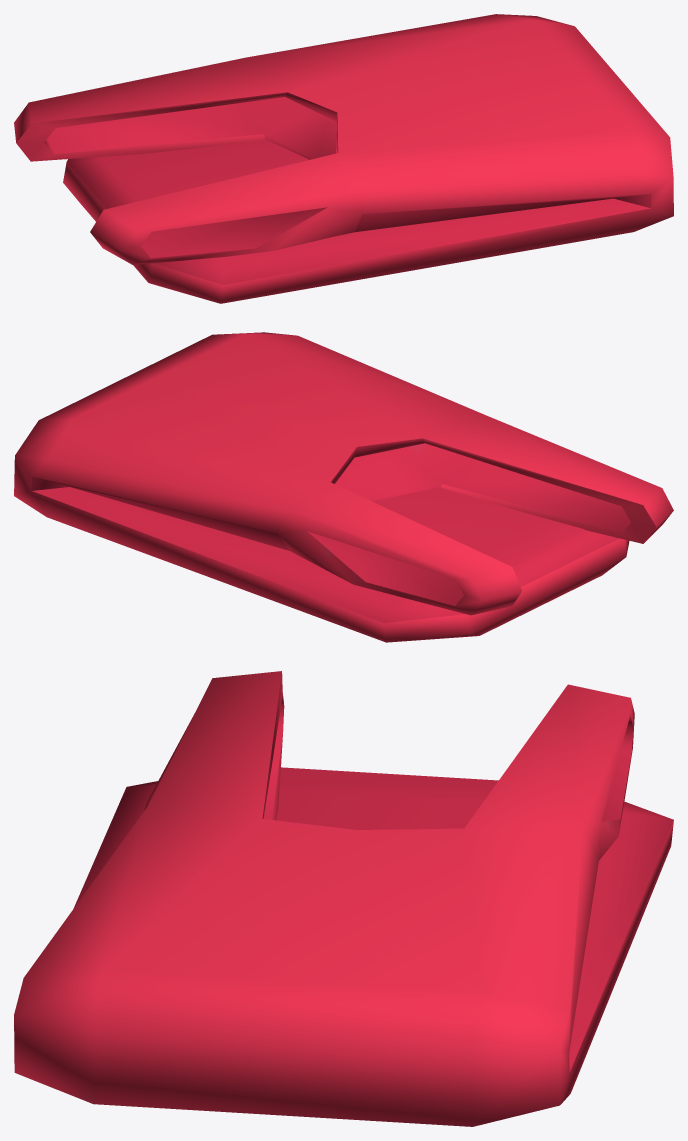
The model's file is DressIroned.fbx.
The picture shows the model from 3 angles, top to bottom: view 1: azimuth 30°, elevation 25°; view 2: azimuth 150°, elevation 25°; view 3: azimuth 270°, elevation 25°; orthographic projection. The views are drawn at different scales.
Visible parts, largest first — view 1: DressIroned; view 2: DressIroned; view 3: DressIroned.
Part boxes in pixels (x1,y1,x2,y2): DressIroned: (14, 14, 673, 303); DressIroned: (14, 332, 673, 642); DressIroned: (14, 671, 673, 1126).
Size of the model in its own units: 100 by 16.99 by 73.4.
